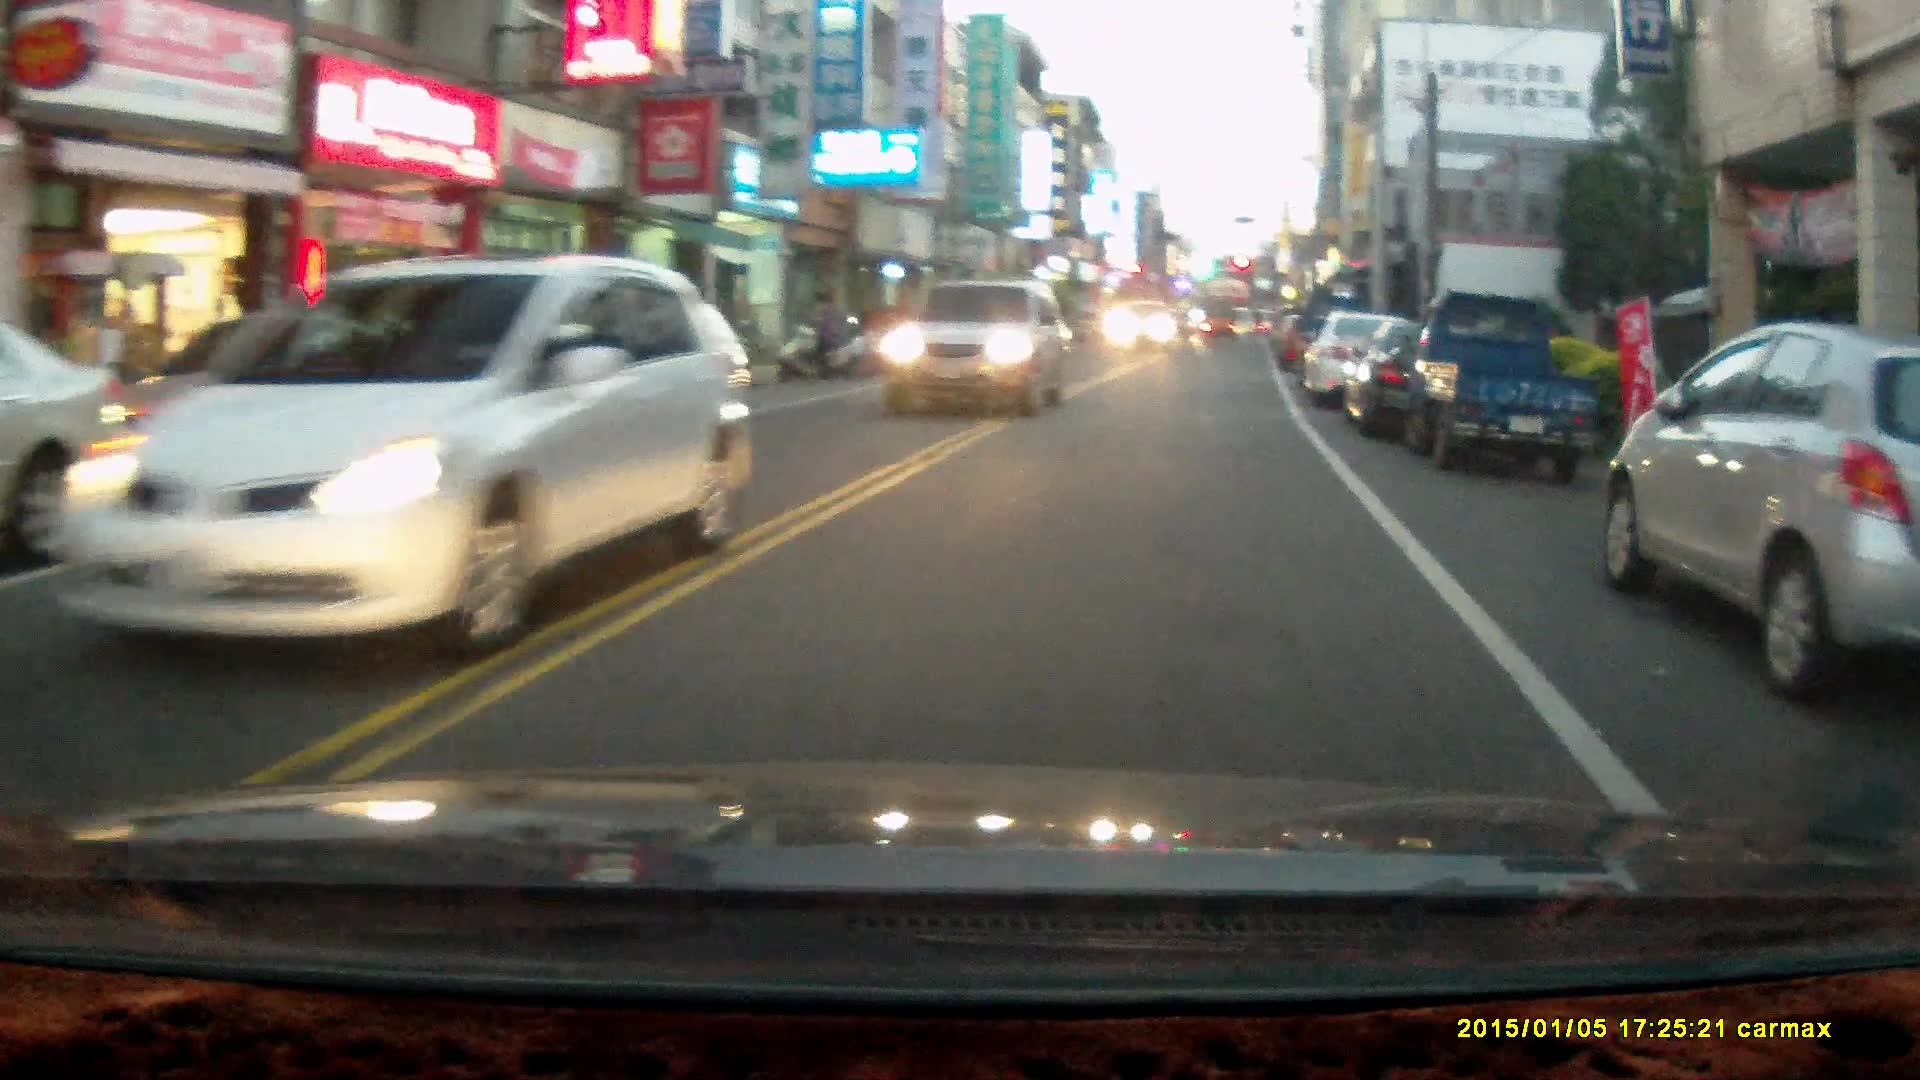pedestrian: (813, 292, 841, 386)
vehicle: (40, 256, 744, 653), (1599, 321, 1920, 703), (1404, 291, 1613, 481), (1, 309, 139, 575), (504, 297, 749, 443), (1340, 309, 1546, 447), (874, 276, 1074, 417), (1299, 309, 1457, 415), (1108, 298, 1184, 358)
